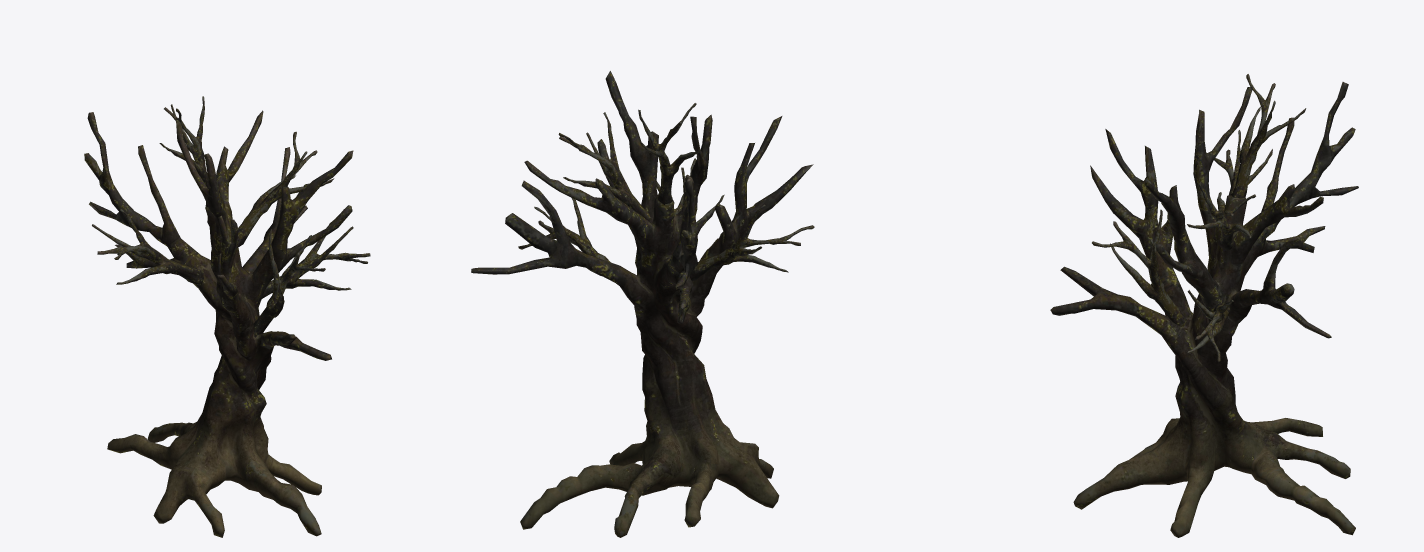
3 renders of one model, left to right at view 1: azimuth 30°, elevation 25°; view 2: azimuth 150°, elevation 25°; view 3: azimuth 270°, elevation 25°, orthographic. The views are drawn at different scales.
Parts seen in each view (by area): view 1: tree2; view 2: tree2; view 3: tree2.
Boxes of the visible parts, left/top/right/bottom form: tree2: left=84, top=96, right=370, bottom=537; tree2: left=471, top=71, right=814, bottom=537; tree2: left=1050, top=74, right=1358, bottom=537.
Size of the model in its own units: 490 by 526 by 440.
2 materials, 2 textured.
